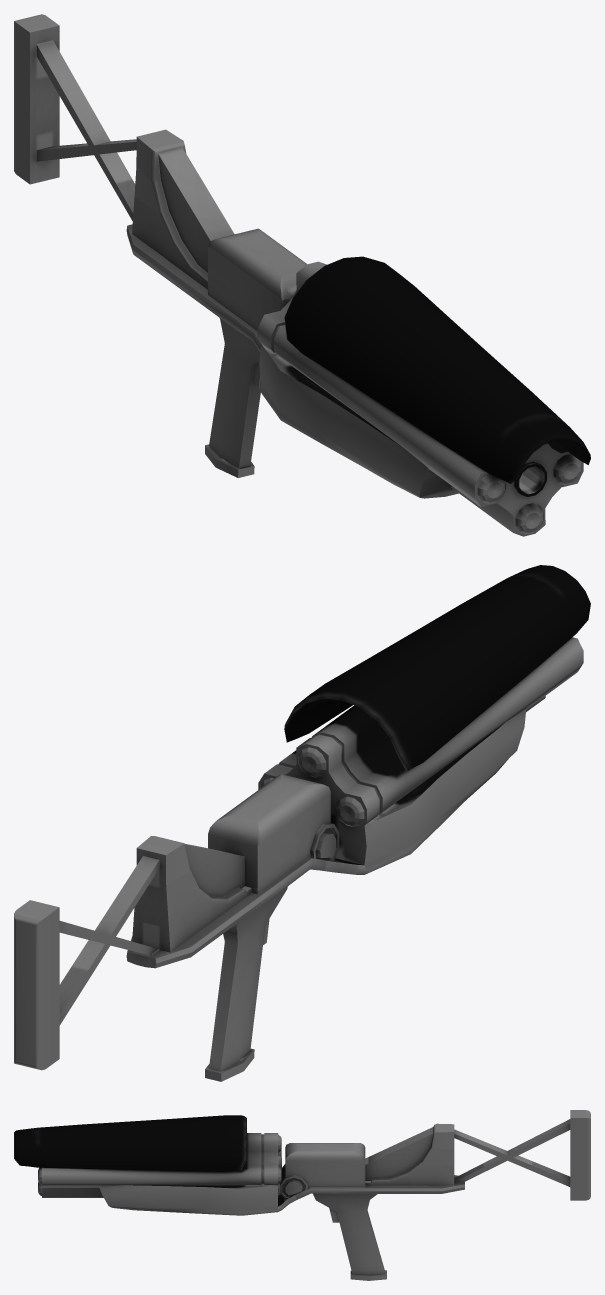
Rendered from Gun.obj.
The picture shows the model from 3 angles, top to bottom: view 1: azimuth 30°, elevation 25°; view 2: azimuth 150°, elevation 25°; view 3: azimuth 270°, elevation 25°; orthographic projection. The views are drawn at different scales.
Parts seen in each view (by area): view 1: Gun:polySurface25; view 2: Gun:polySurface25; view 3: Gun:polySurface25.
Boxes of the visible parts, x1,y1,x2,y2 form: Gun:polySurface25: (14,14,590,536); Gun:polySurface25: (14,565,590,1081); Gun:polySurface25: (14,1110,590,1280).
Size of the model in its own units: 1.19 by 2.52 by 8.06.
Materials: 1 (1 with a texture image).
